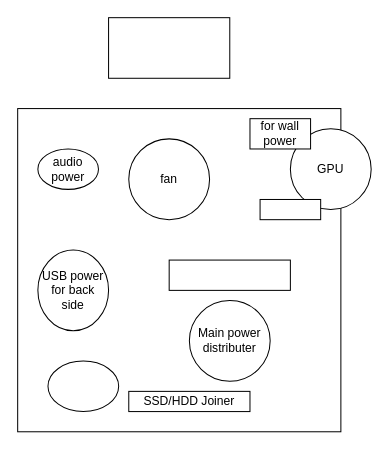
This 389x449 diagram has some shape labels left out. The centre of each missing label's shape, as x and y in pixels:
CPU: [169,47]
fan power: [290,209]
frunte LED power: [83,386]
RAM: [229,274]
